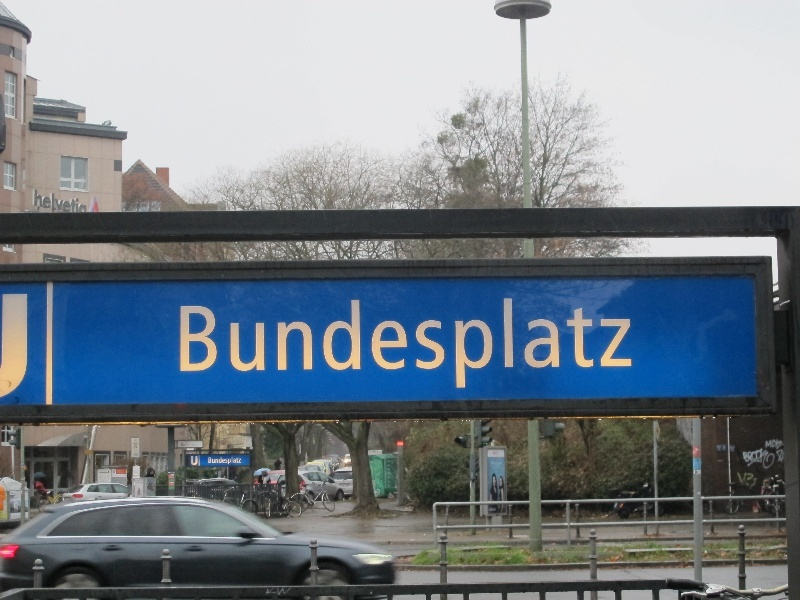text: (193, 298, 208, 392), (209, 298, 224, 392), (225, 298, 240, 392), (241, 298, 256, 392), (257, 298, 272, 392), (273, 298, 288, 392), (289, 298, 304, 392), (305, 298, 320, 392), (321, 298, 336, 392), (337, 298, 352, 392), (353, 298, 368, 392), (369, 298, 384, 392), (385, 298, 400, 392), (401, 298, 416, 392), (417, 298, 432, 392), (433, 298, 448, 392), (449, 298, 464, 392), (465, 298, 480, 392), (481, 298, 496, 392), (497, 298, 512, 392), (513, 298, 528, 392), (529, 298, 544, 392), (545, 298, 560, 392), (561, 298, 576, 392), (577, 298, 592, 392), (593, 298, 608, 392), (609, 298, 624, 392), (180, 298, 192, 392), (625, 298, 635, 392), (753, 449, 768, 469), (738, 472, 752, 489), (743, 449, 752, 469), (209, 458, 224, 466), (225, 458, 240, 466), (769, 449, 775, 469), (769, 440, 783, 448), (753, 472, 758, 489), (134, 443, 144, 449), (193, 456, 198, 466), (181, 443, 192, 447), (134, 453, 144, 457), (100, 471, 112, 474), (766, 440, 768, 448), (241, 458, 242, 466)
